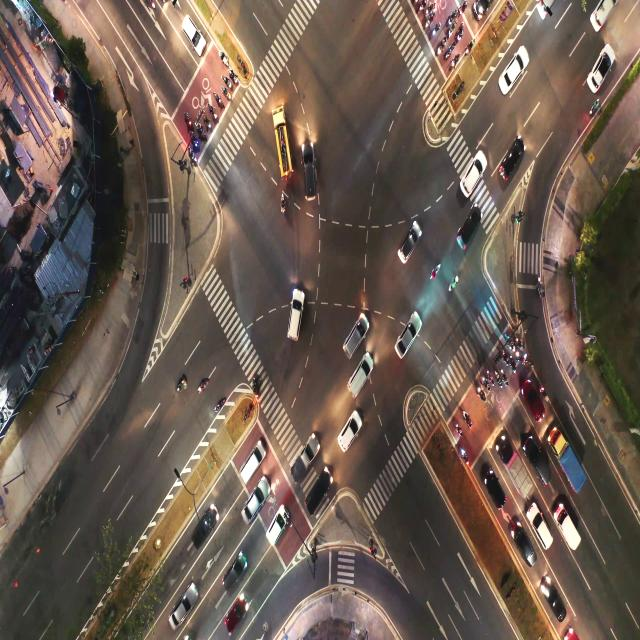bus: (278, 130, 284, 163)
car: (184, 16, 204, 42), (348, 328, 361, 351), (306, 155, 315, 188), (174, 603, 187, 625), (464, 218, 476, 238), (311, 491, 322, 509), (226, 568, 238, 584), (404, 330, 414, 349), (201, 518, 210, 539), (490, 478, 498, 501), (403, 237, 413, 254), (509, 63, 517, 84), (342, 427, 353, 442), (598, 5, 608, 21), (232, 608, 240, 625), (292, 313, 300, 330), (468, 170, 475, 189), (597, 65, 604, 83), (357, 372, 364, 389), (520, 536, 528, 550), (536, 459, 544, 473), (531, 395, 537, 413), (506, 154, 514, 167), (537, 524, 544, 538), (247, 504, 253, 517), (273, 522, 278, 535)
motorcycle: (591, 98, 603, 109), (199, 379, 209, 391), (280, 192, 285, 215), (465, 41, 473, 55), (215, 399, 227, 408), (177, 379, 185, 392), (452, 55, 459, 65), (449, 13, 456, 23), (461, 451, 468, 461), (184, 113, 190, 124), (215, 94, 221, 105), (455, 426, 463, 434), (538, 279, 542, 295), (489, 372, 494, 384), (467, 415, 472, 426), (432, 268, 438, 277), (527, 353, 531, 366), (448, 27, 453, 37), (462, 4, 467, 14), (448, 46, 454, 54), (426, 6, 432, 14), (210, 108, 215, 117), (223, 89, 228, 98), (221, 52, 226, 61), (460, 26, 464, 37), (433, 26, 438, 34), (428, 16, 432, 26), (421, 0, 425, 10), (485, 379, 489, 389), (504, 354, 508, 364), (519, 354, 522, 366), (481, 392, 486, 399), (189, 152, 193, 160), (198, 124, 202, 132), (452, 280, 456, 288), (510, 342, 514, 350), (441, 41, 444, 51), (503, 373, 506, 383), (518, 339, 521, 349), (205, 120, 209, 127), (194, 140, 198, 146), (231, 75, 235, 80), (512, 364, 514, 374), (225, 80, 228, 86), (497, 378, 500, 384)
truck: (564, 453, 578, 477), (561, 515, 574, 539), (247, 455, 257, 479), (511, 464, 521, 485), (297, 458, 307, 472)
